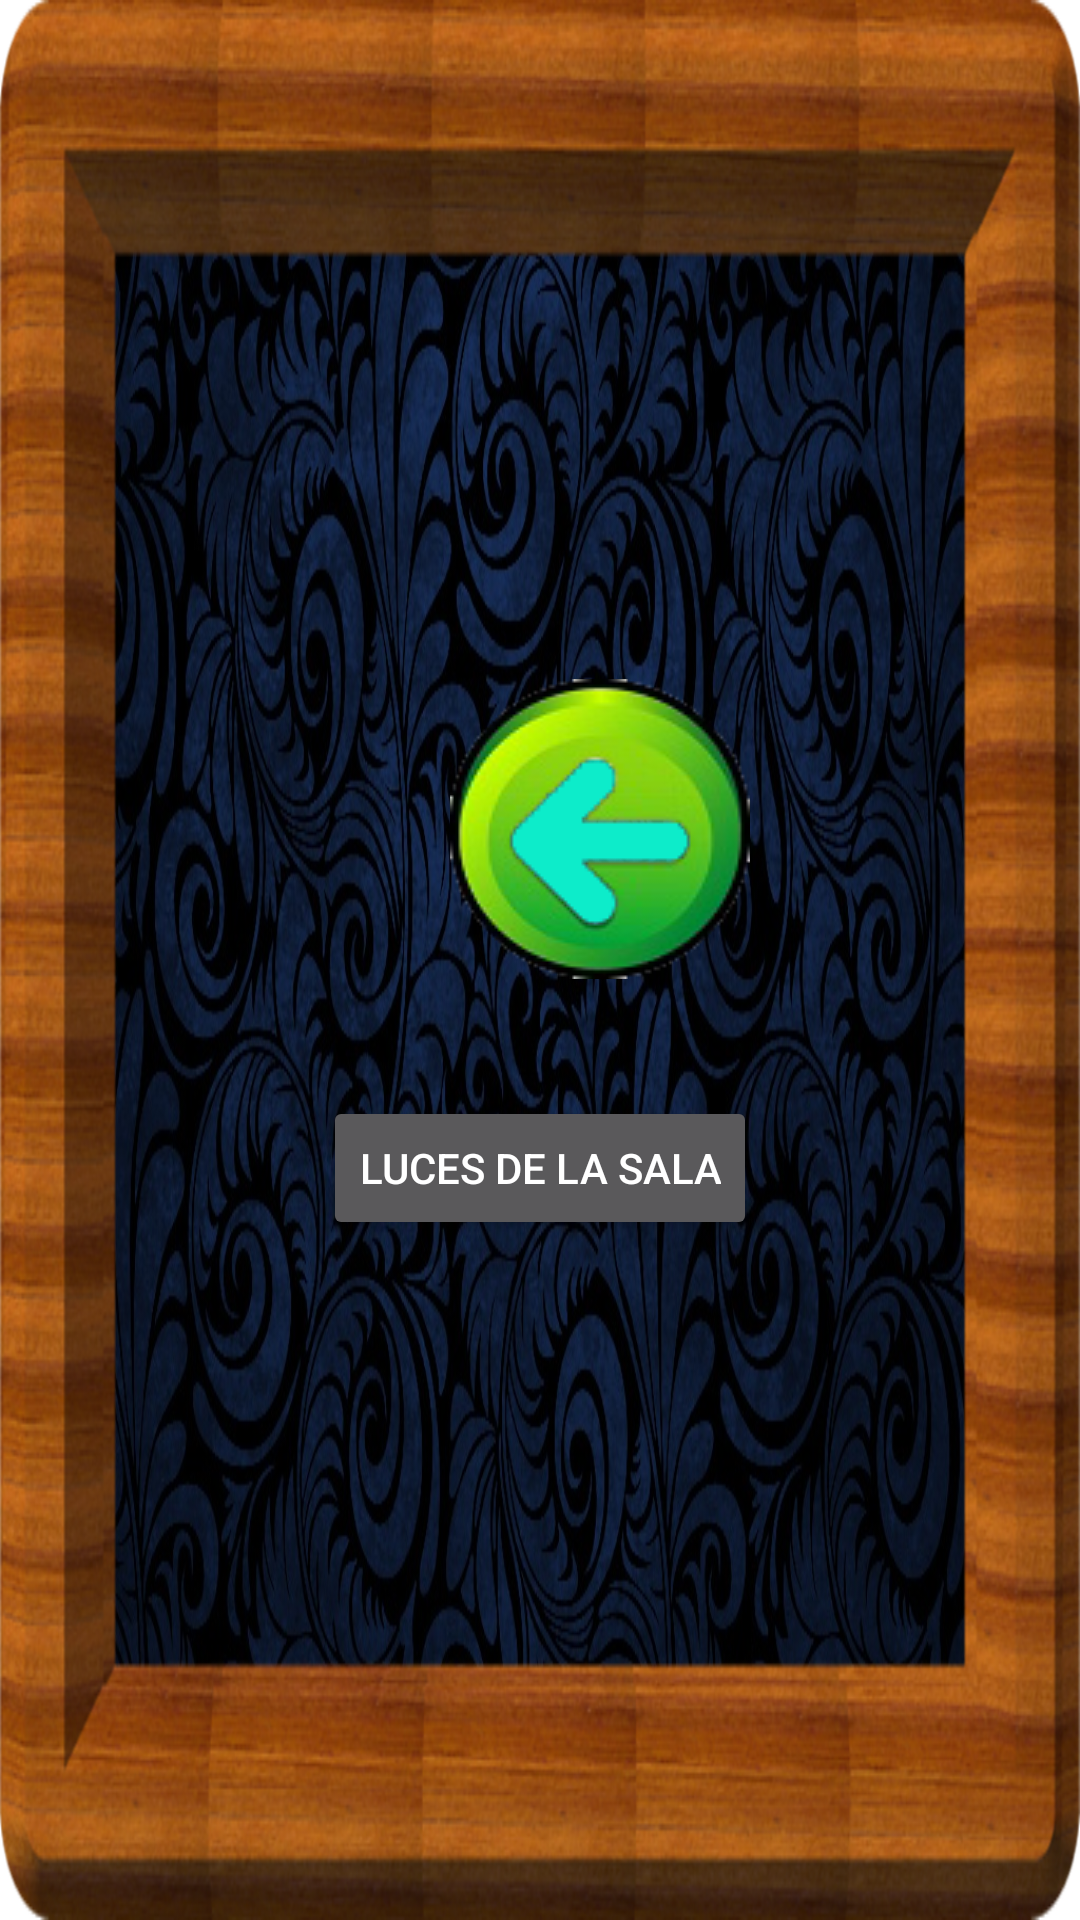

Icons on this 1080px×1920px Android screen, each with the point to tap as [x,y]:
back: [600,829]
